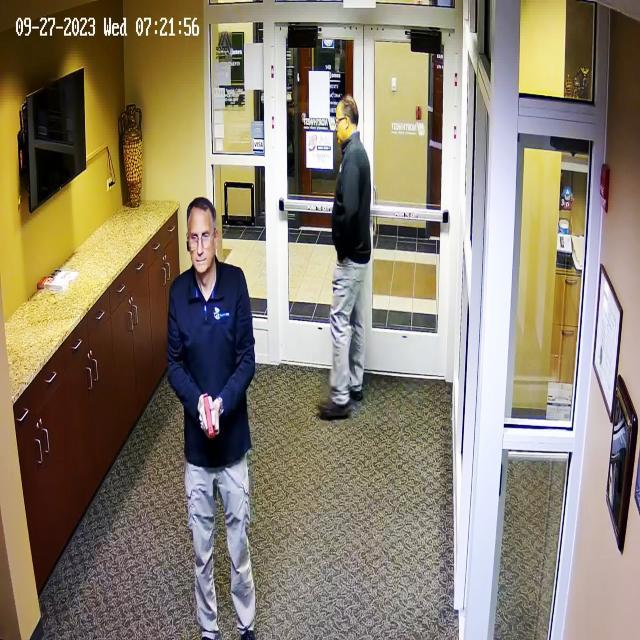Gun: (192, 376, 232, 444)
